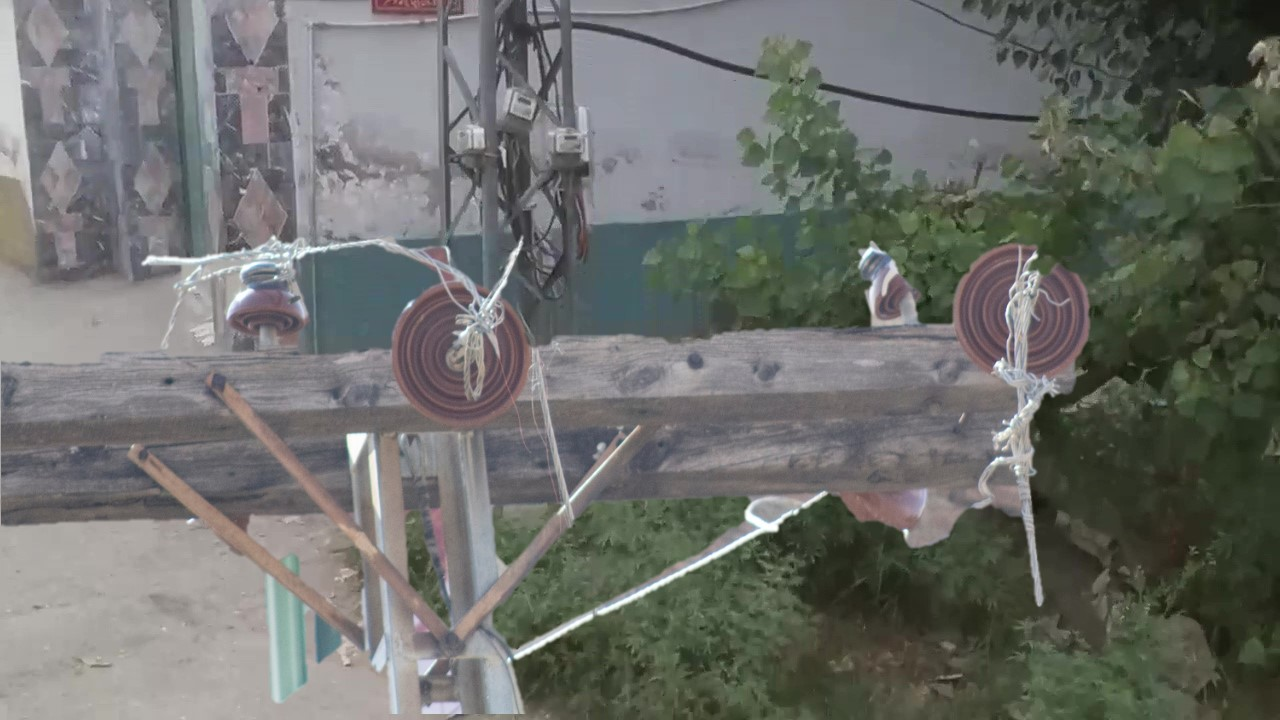defect_pin: (849, 234, 926, 332)
insulator_disc: (389, 274, 539, 425), (951, 237, 1100, 383)
insulator_pin: (220, 253, 316, 344)
